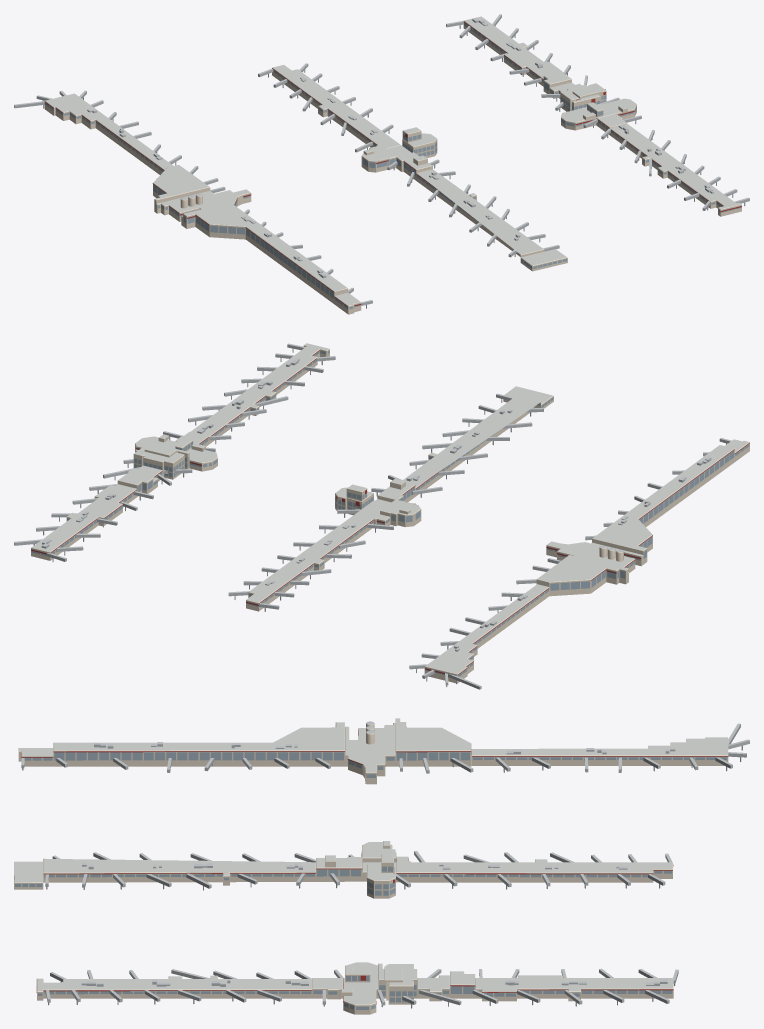
Rendered from atl-hartsfield-jackson-concourses-t-a-b.glb.
3 renders of one model, top to bottom at view 1: azimuth 30°, elevation 25°; view 2: azimuth 150°, elevation 25°; view 3: azimuth 270°, elevation 25°, orthographic. The views are drawn at different scales.
Visible parts, largest first — view 1: Hartsfield-Jackson Concourses T, A and B; view 2: Hartsfield-Jackson Concourses T, A and B; view 3: Hartsfield-Jackson Concourses T, A and B.
Boxes of the visible parts, x1=… form: Hartsfield-Jackson Concourses T, A and B: x1=14, y1=14, x2=749, y2=314; Hartsfield-Jackson Concourses T, A and B: x1=14, y1=343, x2=749, y2=689; Hartsfield-Jackson Concourses T, A and B: x1=14, y1=718, x2=749, y2=1014.
Size of the model in its own units: 738 by 35 by 813.
